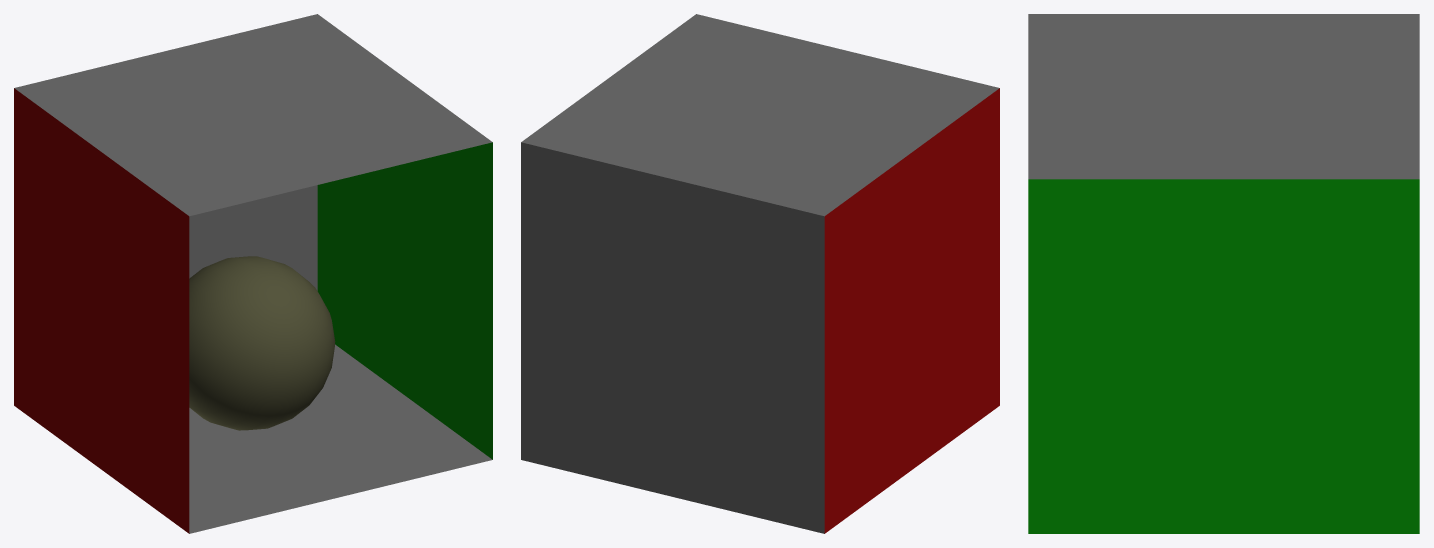
The model's file is cornell_box.obj.
3 views of the same model, side by side, from view 1: azimuth 30°, elevation 25°; view 2: azimuth 150°, elevation 25°; view 3: azimuth 270°, elevation 25° (orthographic). The views are drawn at different scales.
Size of the model in its own units: 1 by 1 by 1.
